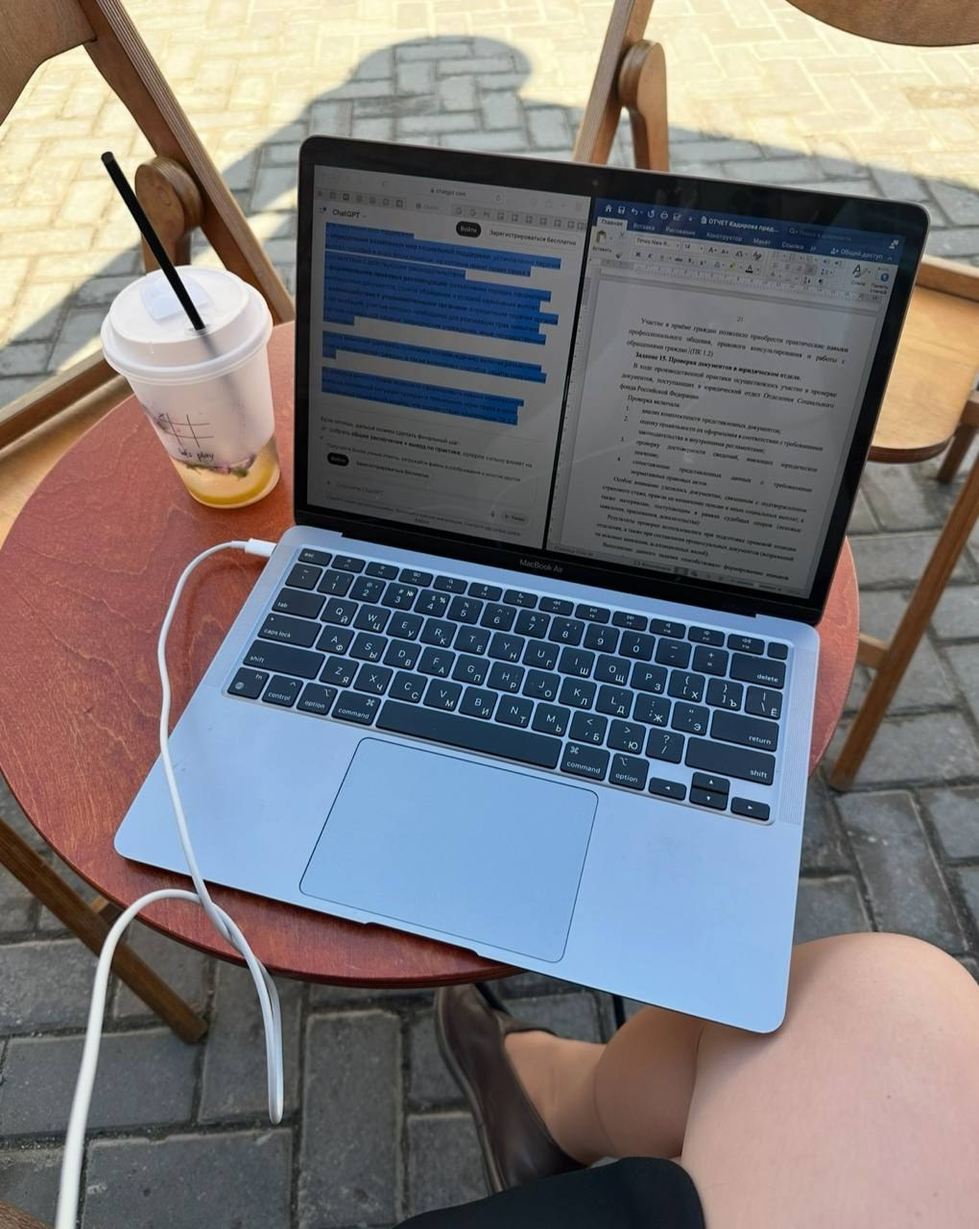laptop: (112, 133, 930, 1035)
